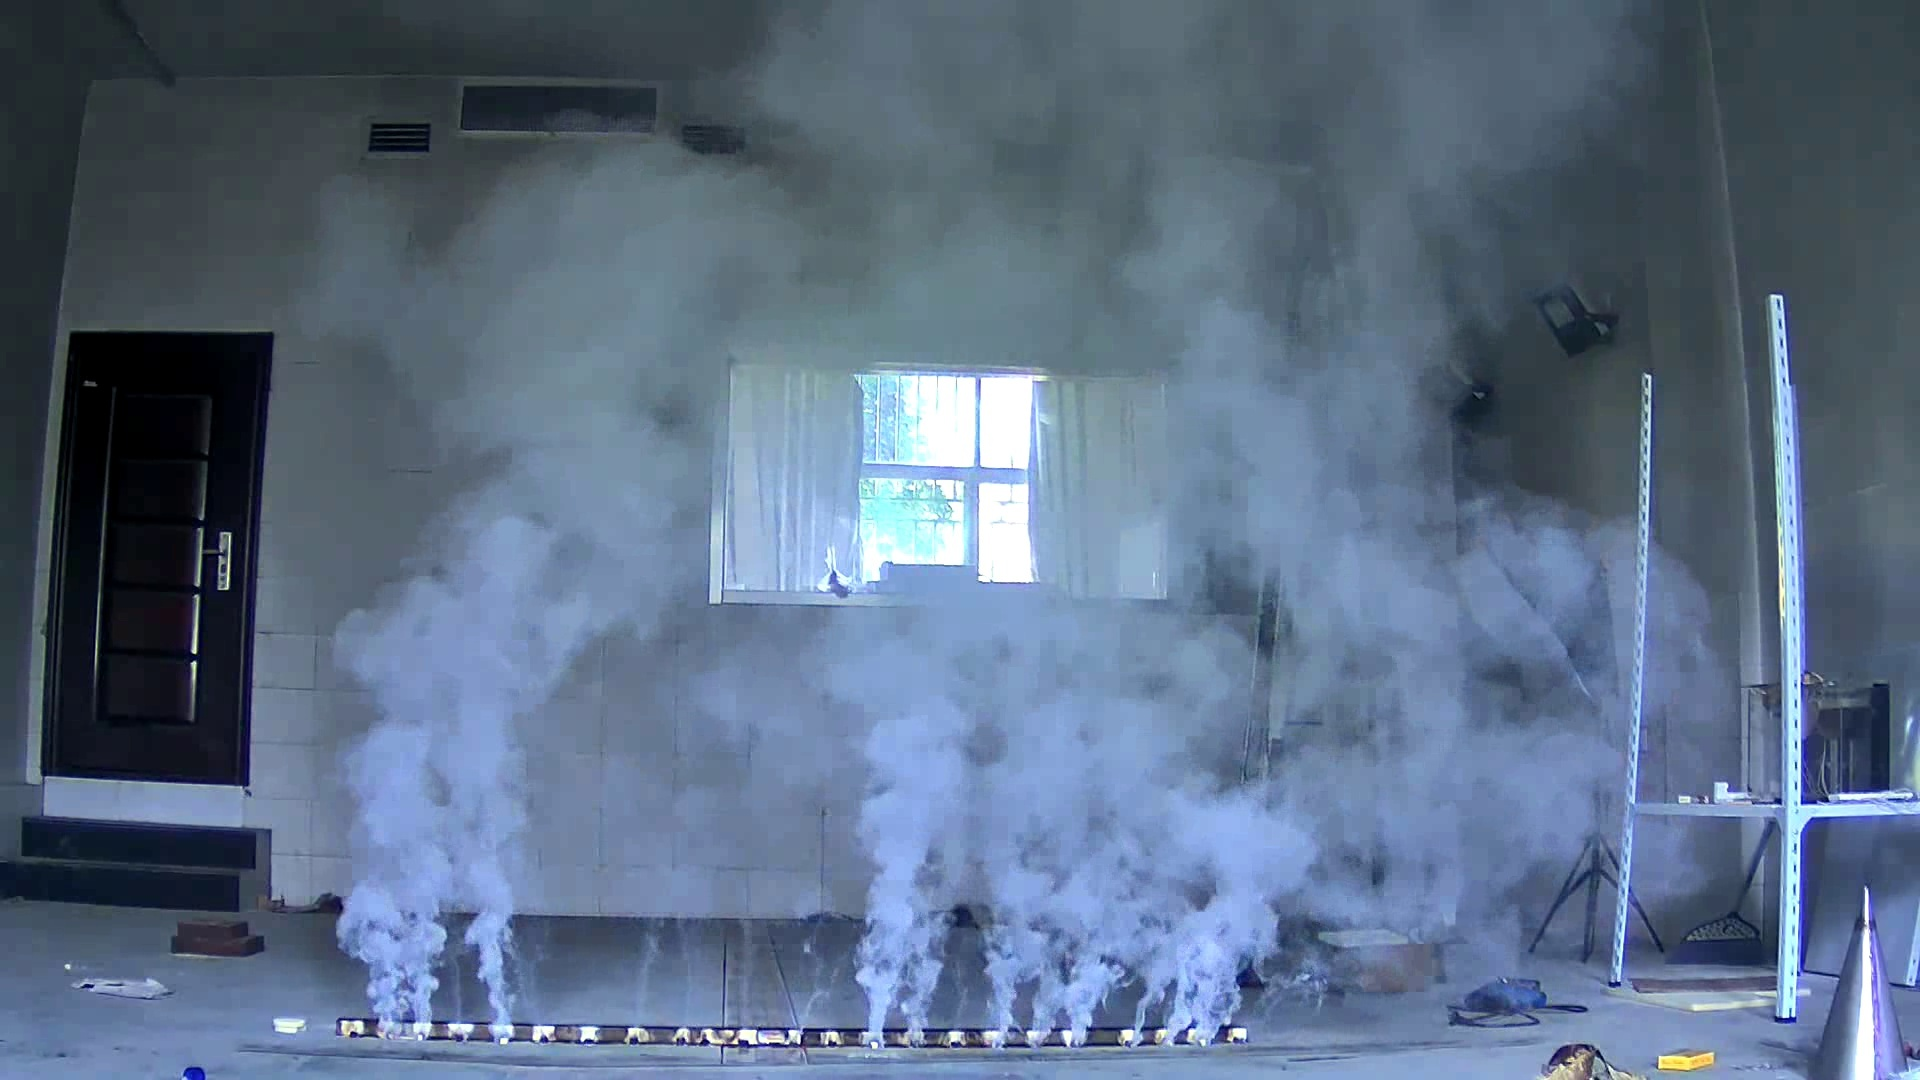smoke: (783, 255, 1552, 1038), (298, 497, 625, 1026)
